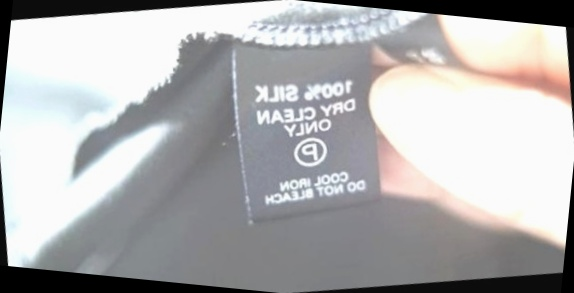dry_clean_any_solvent_except_trichloroethylene: (288, 132, 330, 171)
